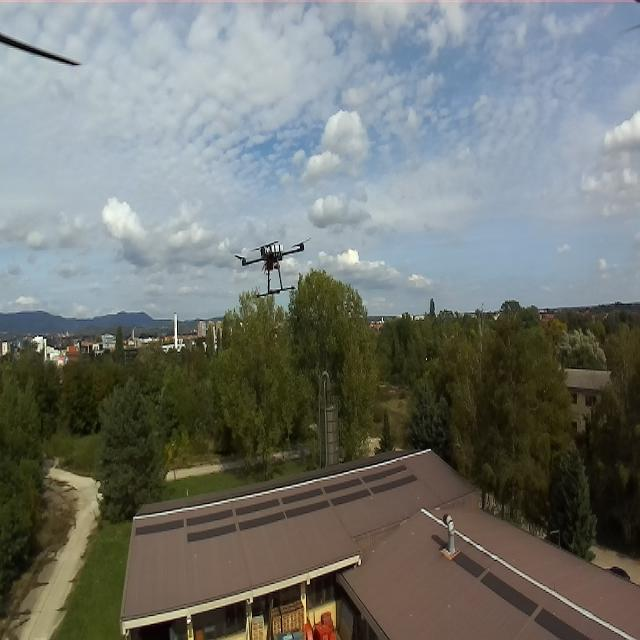UAV: (228, 227, 314, 302)
